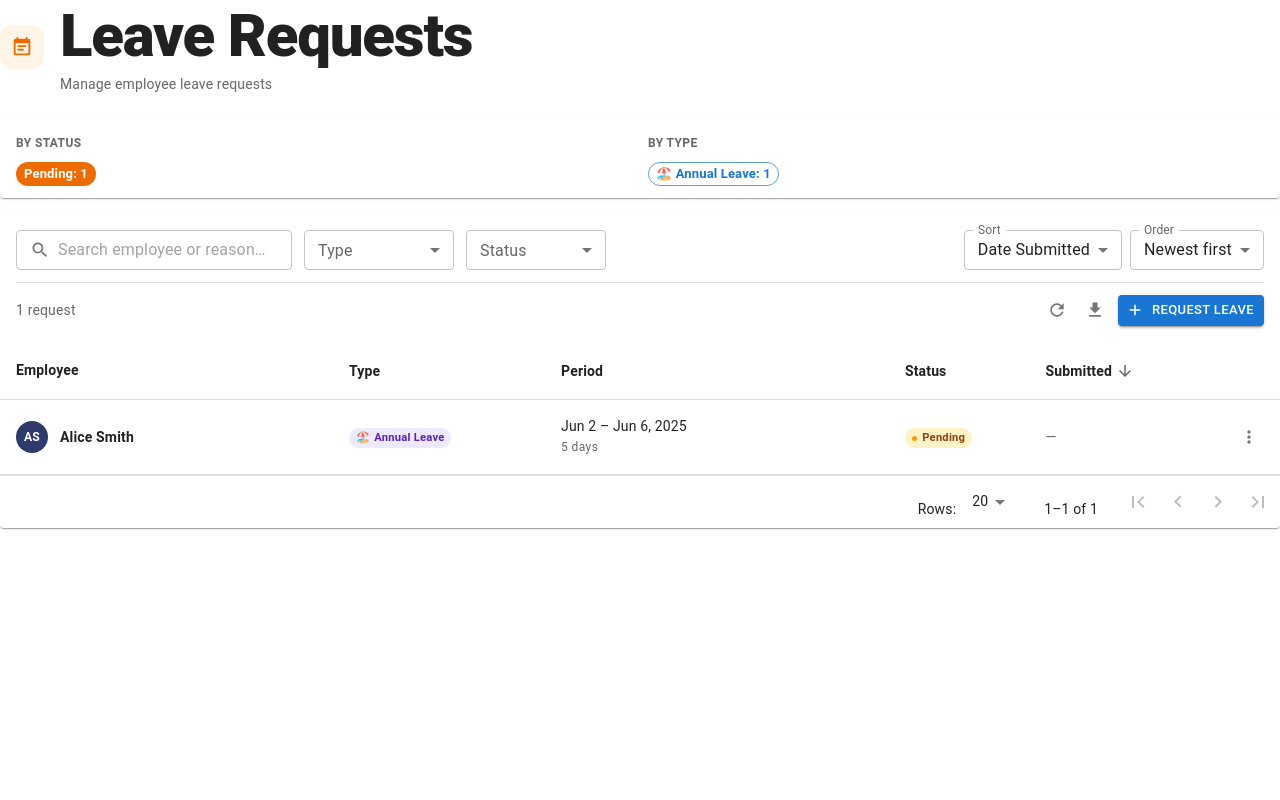
it: LeavesPage › opens the create dialog when Request Leave is clicked
Click the button "Request Leave": coordinates (1191, 310) top-left (1118, 295), bottom-right (1264, 326)
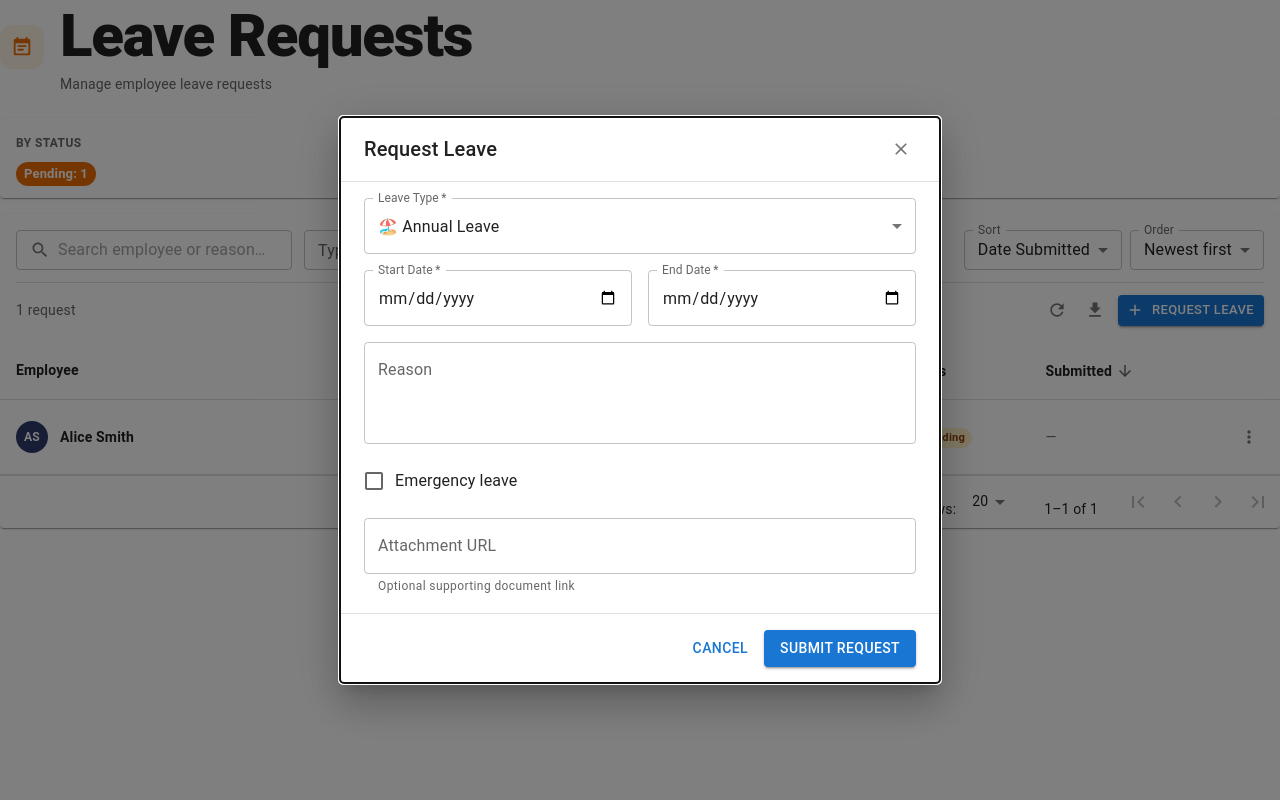
Expected: the dialog is shown, top-left (340, 117), bottom-right (940, 683)
